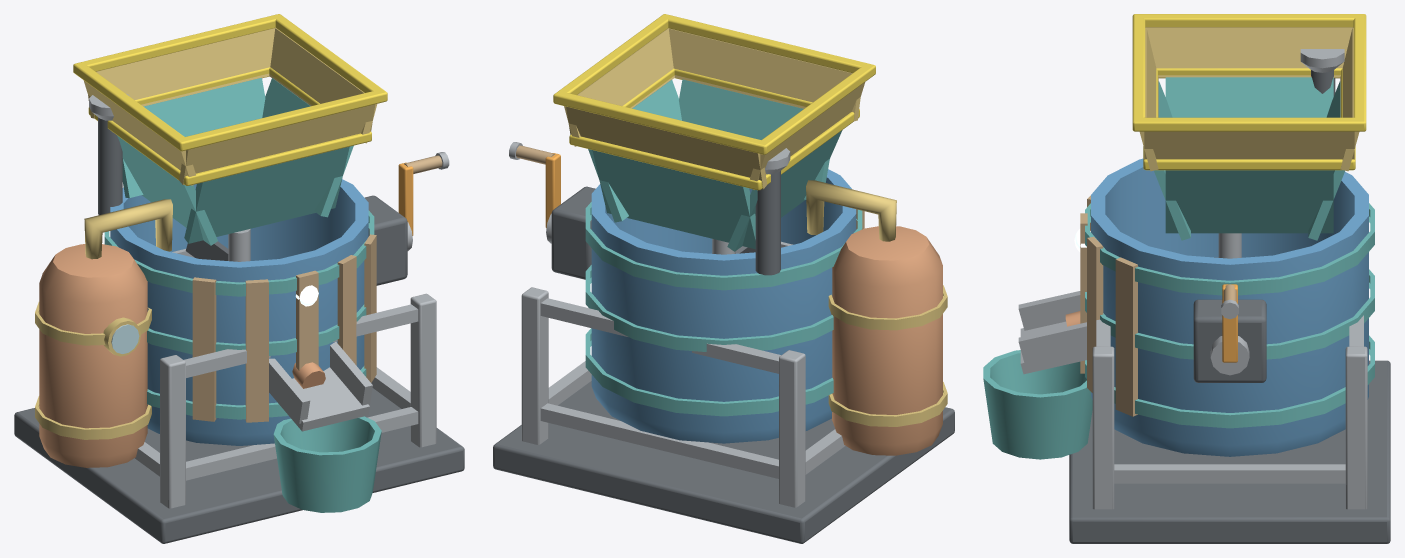
File: machine_pulper.fbx
The picture shows the model from 3 angles, left to right: view 1: azimuth 30°, elevation 25°; view 2: azimuth 150°, elevation 25°; view 3: azimuth 270°, elevation 25°; orthographic projection. The views are drawn at different scales.
Parts seen in each view (by area): view 1: machine_pulper, Upgrade_Lvl1, CrankPivot, RotorPivot; view 2: machine_pulper, Upgrade_Lvl1, CrankPivot; view 3: machine_pulper, Upgrade_Lvl1, CrankPivot, RotorPivot.
Boxes of the visible parts, box(x1,y1,x2,y2) form: machine_pulper: box(14, 67, 464, 543); Upgrade_Lvl1: box(35, 14, 387, 467); CrankPivot: box(398, 152, 449, 250); RotorPivot: box(185, 229, 250, 261); machine_pulper: box(493, 68, 954, 543); Upgrade_Lvl1: box(553, 14, 947, 455); CrankPivot: box(509, 142, 560, 243); machine_pulper: box(983, 49, 1390, 543); Upgrade_Lvl1: box(1132, 14, 1366, 171); CrankPivot: box(1210, 284, 1249, 375); RotorPivot: box(1214, 233, 1241, 258).
Bounding box in the file's own units: 2.09 × 1.8 × 1.67.
